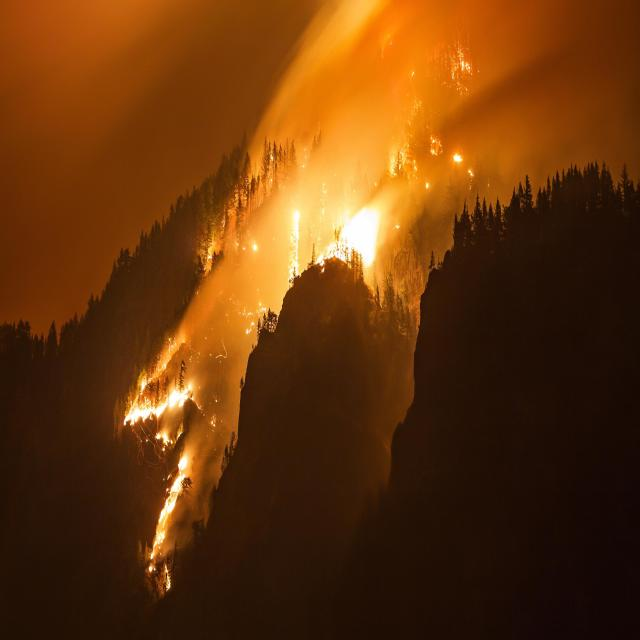Fire: (127, 339, 200, 588), (288, 184, 378, 285), (453, 44, 476, 77), (452, 149, 468, 177)
